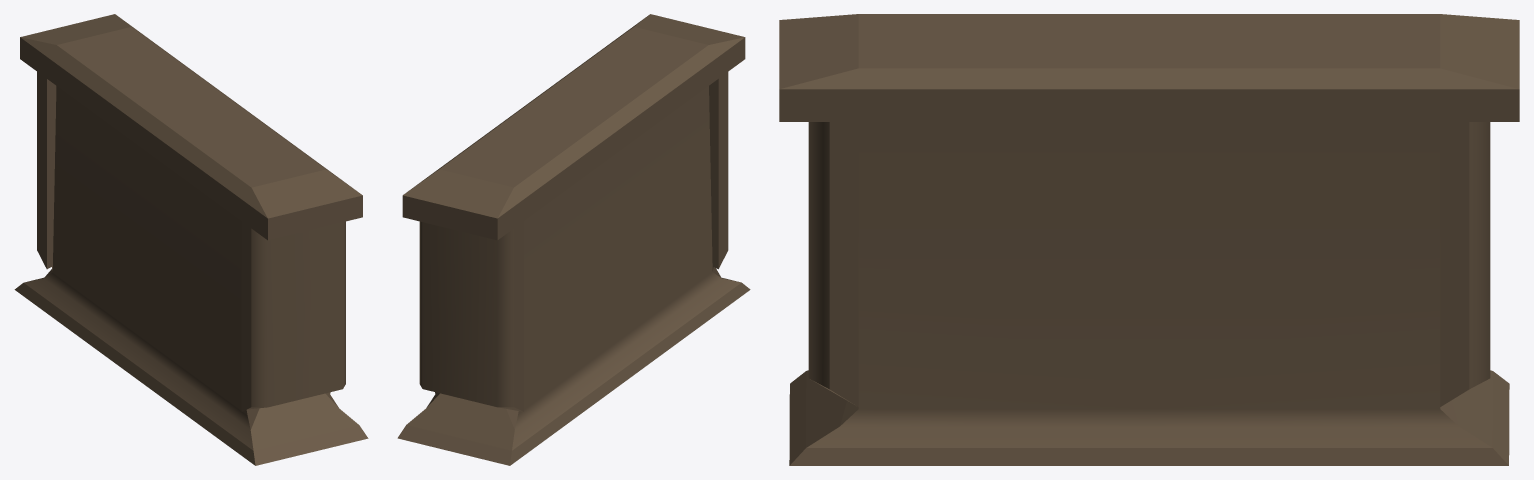
The model's file is Rune.fbx.
3 renders of one model, left to right at view 1: azimuth 30°, elevation 25°; view 2: azimuth 150°, elevation 25°; view 3: azimuth 270°, elevation 25°, orthographic. The views are drawn at different scales.
Parts seen in each view (by area): view 1: pCube3; view 2: pCube3; view 3: pCube3.
Part boxes in pixels (x1=…): pCube3: x1=14, y1=14, x2=368, y2=465; pCube3: x1=397, y1=14, x2=750, y2=465; pCube3: x1=779, y1=14, x2=1519, y2=465.
Bounding box in the file's own units: 61.69 × 134 × 234.
